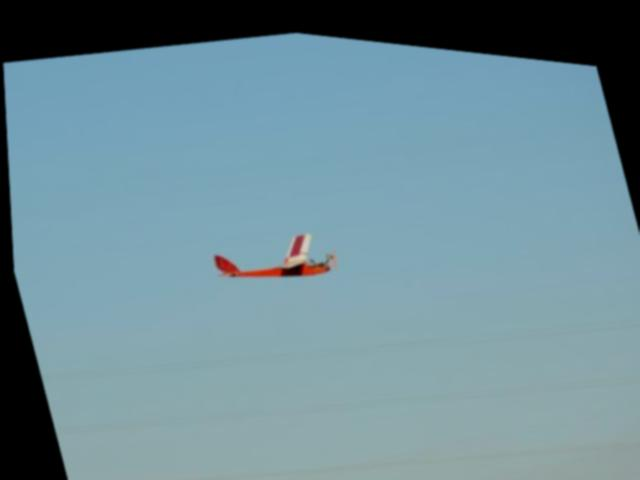iha: (196, 207, 344, 300)
